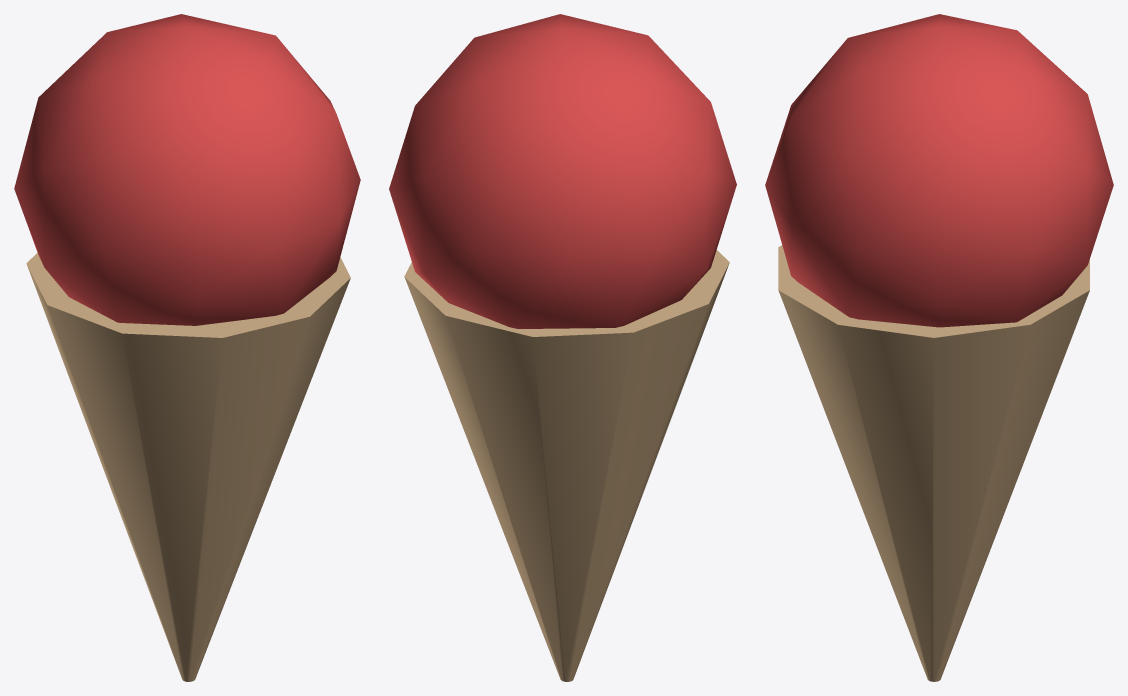
The model's file is SM_icecream.fbx.
3 views of the same model, side by side, from view 1: azimuth 30°, elevation 25°; view 2: azimuth 150°, elevation 25°; view 3: azimuth 270°, elevation 25° (orthographic).
Parts seen in each view (by area): view 1: Object32439; view 2: Object32439; view 3: Object32439.
Part boxes in pixels (box(x1,y1,x2,y2)): Object32439: box(14, 14, 360, 681); Object32439: box(389, 14, 736, 681); Object32439: box(765, 14, 1113, 681).
Bounding box in the file's own units: 8.41 × 18.27 × 8.84.
